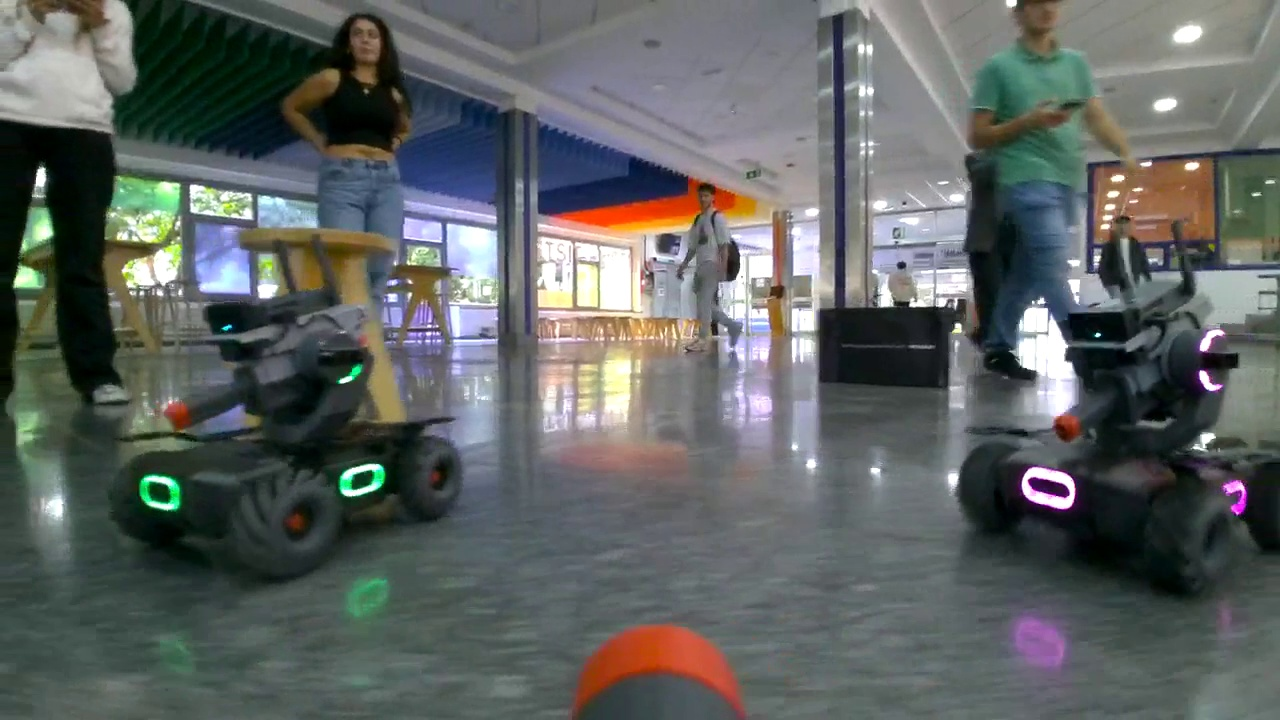robot: (108, 278, 466, 589), (955, 280, 1280, 605)
